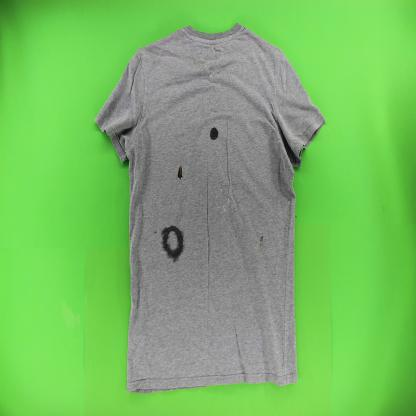stain: (158, 221, 187, 264), (213, 185, 232, 216), (208, 125, 220, 144), (177, 165, 183, 182), (259, 235, 265, 248), (153, 227, 158, 237)
